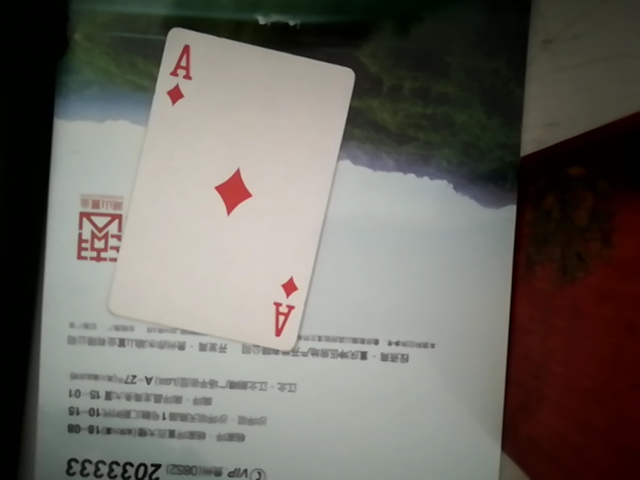fk a: (119, 15, 363, 361)
